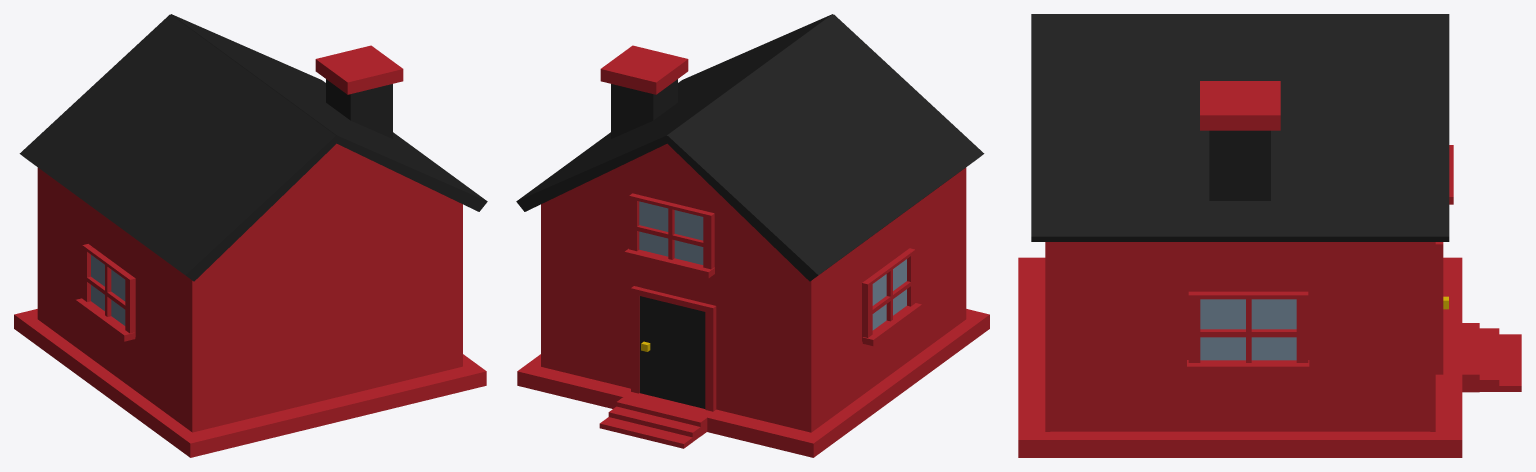
File: Black Roof House FBX.fbx
3 views of the same model, side by side, from view 1: azimuth 30°, elevation 25°; view 2: azimuth 150°, elevation 25°; view 3: azimuth 270°, elevation 25° (orthographic). The views are drawn at different scales.
Parts seen in each view (by area): view 1: pCube5; view 2: pCube5; view 3: pCube5.
Part boxes in pixels (x1,y1,x2,y2): pCube5: (14,14,487,457); pCube5: (516,14,989,457); pCube5: (1018,14,1521,457).
Size of the model in its own units: 7.12 by 6.34 by 8.15.
